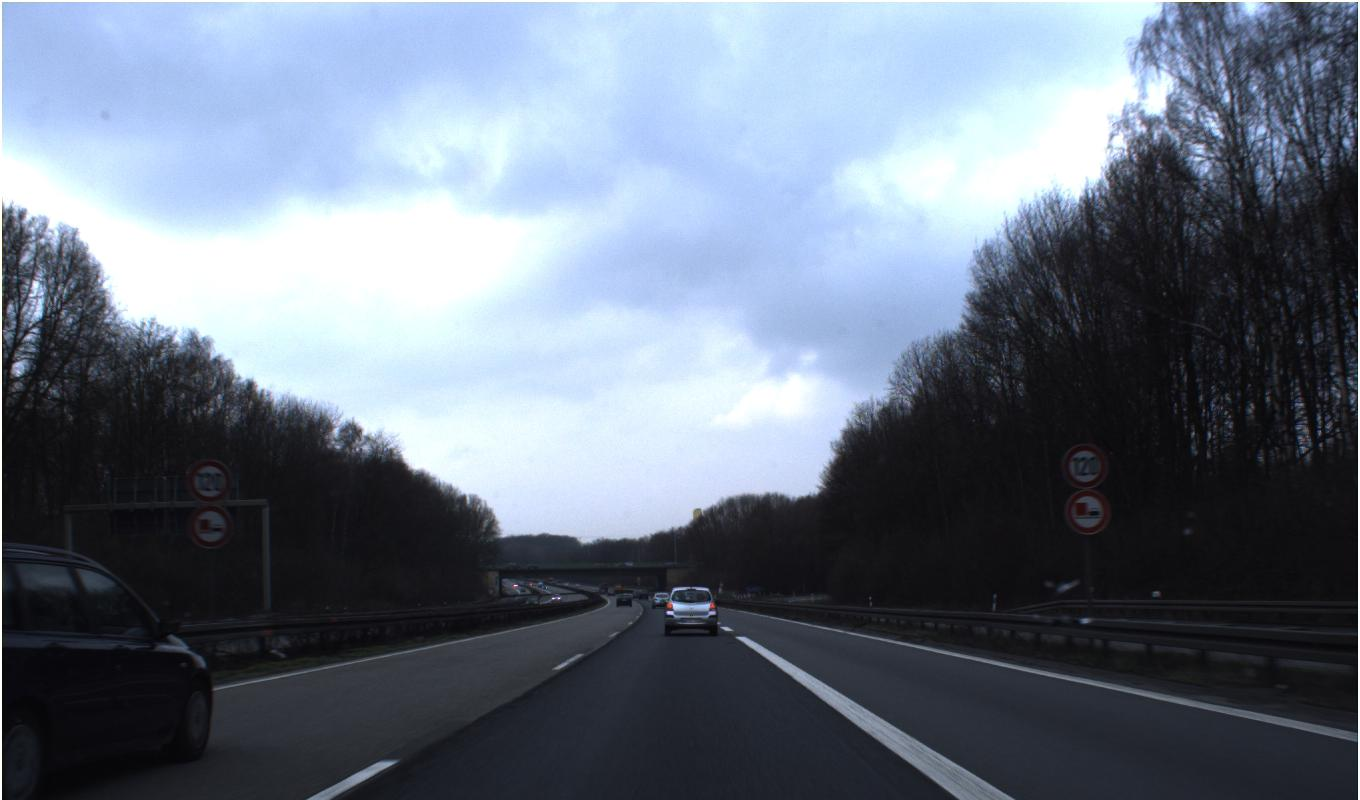prohibitory: (1064, 488, 1112, 536), (185, 503, 232, 550), (1062, 442, 1109, 489), (186, 458, 232, 504)
